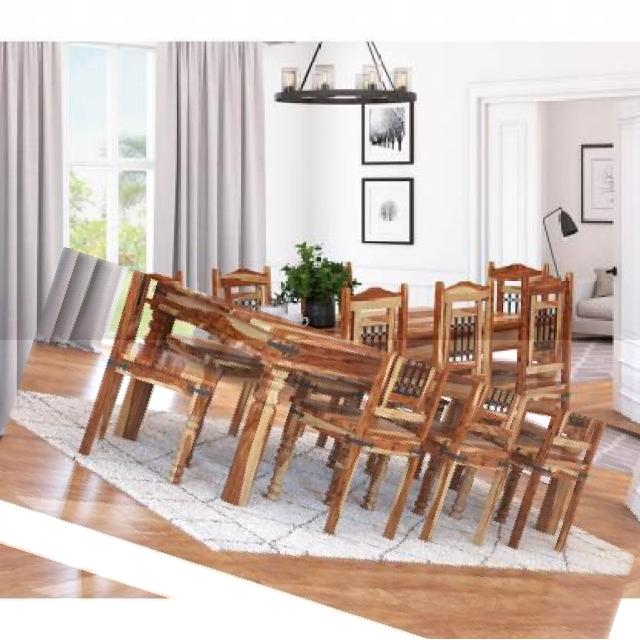floor: (0, 340, 640, 640)
